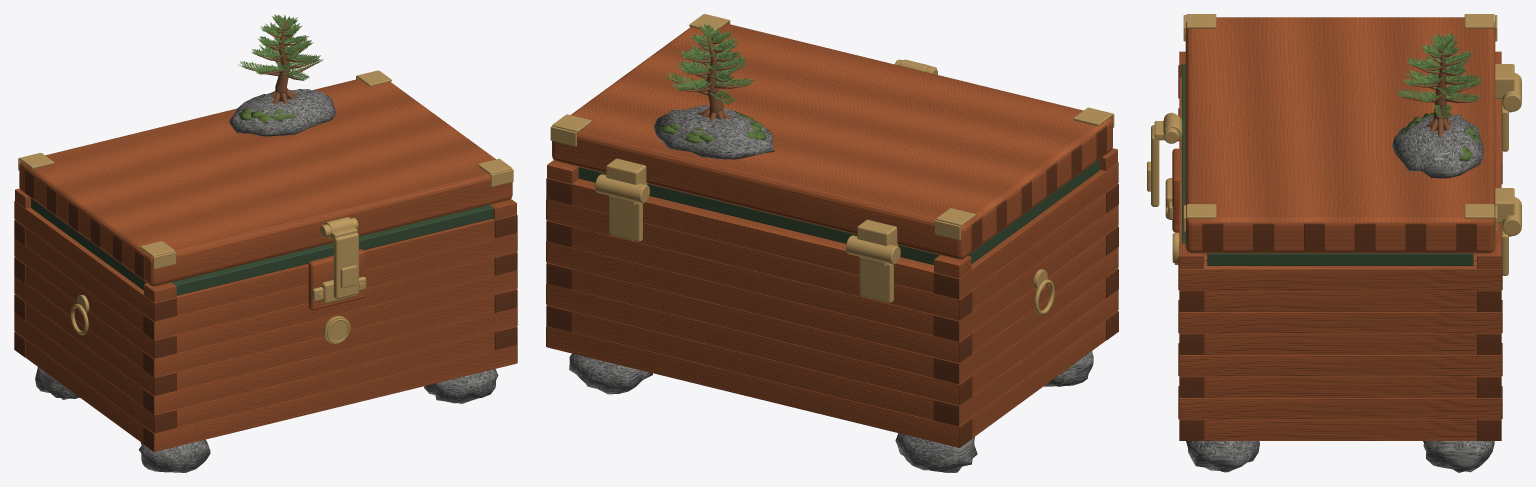
The model's file is japan.glb.
The picture shows the model from 3 angles, left to right: view 1: azimuth 30°, elevation 25°; view 2: azimuth 150°, elevation 25°; view 3: azimuth 270°, elevation 25°; orthographic projection. The views are drawn at different scales.
Parts seen in each view (by area): view 1: Lid / polished slab, Cedar / front course 0, Cedar / front course 2, Cedar / front course 4, Cedar / front course 1, Cedar / front course 3, Cedar / front course 6, Cedar / front course 5, Cedar / front course 7, Mineral seam / long, Cedar / side course 7, Terrain / granite (+19 smaller); view 2: Lid / polished slab, Cedar / rear course 4, Cedar / rear course 0, Cedar / rear course 2, Cedar / rear course 7, Cedar / rear course 3, Cedar / rear course 1, Cedar / rear course 5, Cedar / rear course 6, Cedar / side course 7, Terrain / granite, Cedar / side course 1 (+23 smaller); view 3: Lid / polished slab, Cedar / side course 7.001, Cedar / side course 1.001, Cedar / side course 3.001, Cedar / side course 5.001, Cedar / side course 0.001, Cedar / side course 2.001, Cedar / side course 4.001, Cedar / side course 6.001, Terrain / granite, Mineral seam / side.001, Granite foot.002 (+34 smaller).
Boxes of the visible parts, left/top/right/bottom form: Lid / polished slab: left=19, top=79, right=512, bottom=286; Cedar / front course 0: left=144, top=345, right=516, bottom=451; Cedar / front course 2: left=144, top=308, right=516, bottom=414; Cedar / front course 4: left=144, top=270, right=516, bottom=377; Cedar / front course 1: left=176, top=332, right=494, bottom=427; Cedar / front course 3: left=176, top=294, right=494, bottom=390; Cedar / front course 6: left=144, top=233, right=516, bottom=340; Cedar / front course 5: left=177, top=257, right=494, bottom=353; Cedar / front course 7: left=176, top=218, right=494, bottom=315; Mineral seam / long: left=171, top=204, right=493, bottom=295; Cedar / side course 7: left=14, top=201, right=176, bottom=321; Terrain / granite: left=229, top=89, right=336, bottom=136; Lid / polished slab: left=552, top=23, right=1112, bottom=259; Cedar / rear course 4: left=547, top=241, right=971, bottom=363; Cedar / rear course 0: left=547, top=326, right=970, bottom=447; Cedar / rear course 2: left=547, top=284, right=970, bottom=405; Cedar / rear course 7: left=572, top=179, right=933, bottom=293; Cedar / rear course 3: left=572, top=269, right=933, bottom=377; Cedar / rear course 1: left=572, top=311, right=933, bottom=420; Cedar / rear course 5: left=572, top=226, right=933, bottom=335; Cedar / rear course 6: left=547, top=199, right=971, bottom=320; Cedar / side course 7: left=934, top=162, right=1118, bottom=299; Terrain / granite: left=654, top=105, right=774, bottom=159; Cedar / side course 1: left=934, top=290, right=1118, bottom=426; Lid / polished slab: left=1185, top=17, right=1495, bottom=253; Cedar / side course 7.001: left=1179, top=261, right=1501, bottom=290; Cedar / side course 1.001: left=1179, top=398, right=1501, bottom=419; Cedar / side course 3.001: left=1179, top=355, right=1501, bottom=376; Cedar / side course 5.001: left=1179, top=312, right=1501, bottom=333; Cedar / side course 0.001: left=1204, top=419, right=1476, bottom=440; Cedar / side course 2.001: left=1204, top=376, right=1476, bottom=397; Cedar / side course 4.001: left=1204, top=333, right=1476, bottom=354; Cedar / side course 6.001: left=1204, top=290, right=1476, bottom=311; Terrain / granite: left=1392, top=114, right=1483, bottom=178; Mineral seam / side.001: left=1207, top=253, right=1473, bottom=265; Granite foot.002: left=1186, top=441, right=1259, bottom=472.
Size of the model in its own units: 3.79 by 3.27 by 2.88.
Materials: 11 (3 with a texture image).
